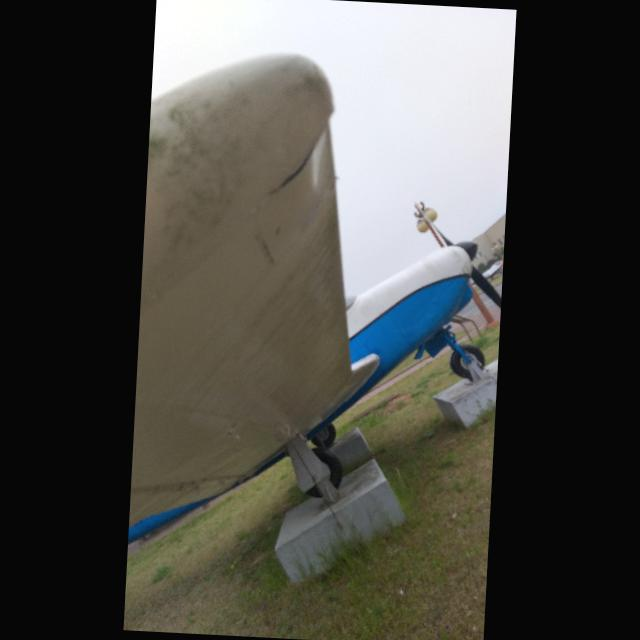dent: (300, 128, 338, 196)
